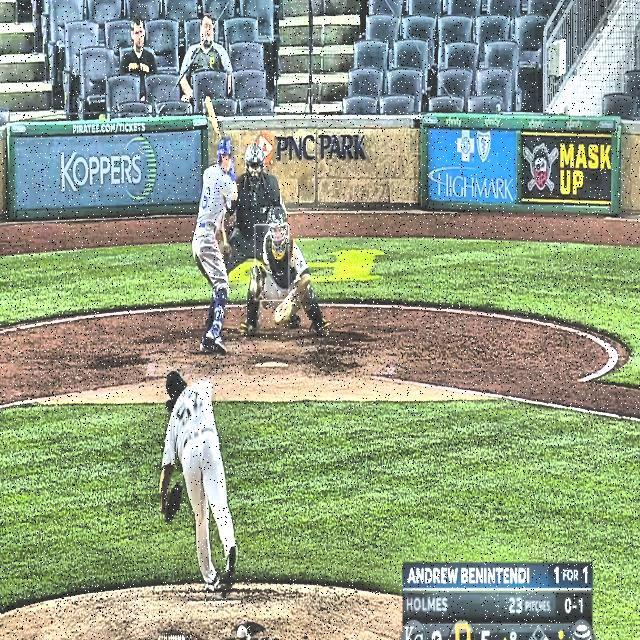baseball: (249, 278, 258, 296)
